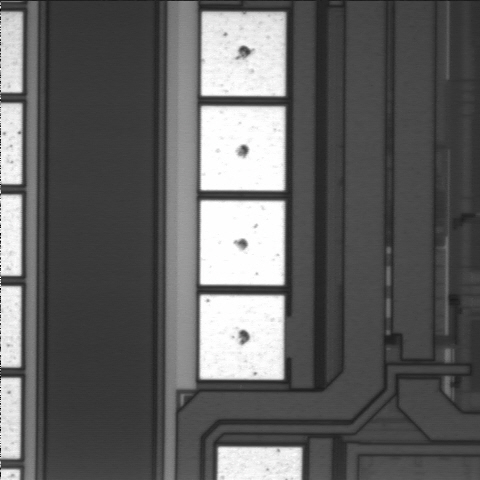pad: (200, 106, 285, 191), (200, 200, 285, 285), (200, 295, 284, 380), (201, 12, 285, 96)
